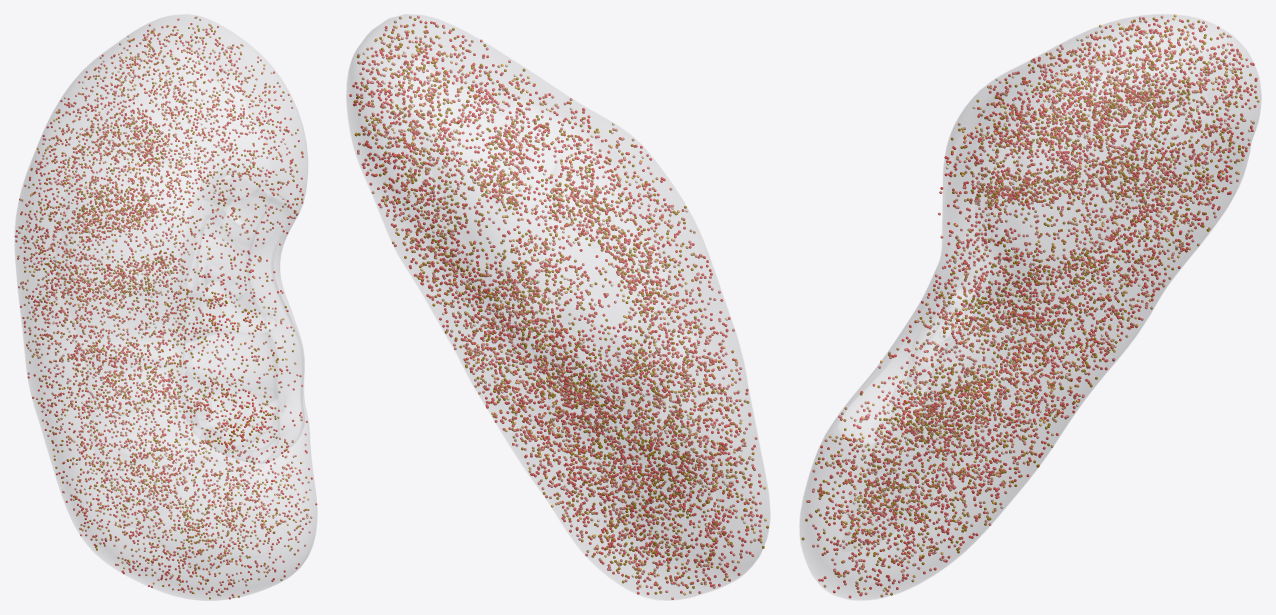
Rendered from 3d-vh-m-kidney-r-UBERON_0004539-all-as-pan-human-azimuth-sphere-hra-pop.glb.
3 views of the same model, side by side, from view 1: azimuth 30°, elevation 25°; view 2: azimuth 150°, elevation 25°; view 3: azimuth 270°, elevation 25° (orthographic). The views are drawn at different scales.
Parts seen in each view (by area): view 1: VH_M_kidney_capsule_R, VH_M_outer_cortex_of_kidney_R, VH_M_hilum_of_kidney_R, VH_M_renal_column_R, VH_M_renal_pyramid_f, VH_M_renal_pyramid_h, VH_M_renal_papilla_R_g; view 2: VH_M_kidney_capsule_R, VH_M_outer_cortex_of_kidney_R; view 3: VH_M_kidney_capsule_R, VH_M_outer_cortex_of_kidney_R, VH_M_hilum_of_kidney_R, VH_M_renal_pyramid_f.
Part boxes in pixels (x1=…): VH_M_kidney_capsule_R: x1=14, y1=14, x2=316, y2=600; VH_M_outer_cortex_of_kidney_R: x1=17, y1=16, x2=311, y2=599; VH_M_hilum_of_kidney_R: x1=181, y1=174, x2=301, y2=462; VH_M_renal_column_R: x1=187, y1=179, x2=276, y2=462; VH_M_renal_pyramid_f: x1=186, y1=269, x2=275, y2=341; VH_M_renal_pyramid_h: x1=182, y1=384, x2=280, y2=453; VH_M_renal_papilla_R_g: x1=186, y1=383, x2=211, y2=414; VH_M_kidney_capsule_R: x1=346, y1=14, x2=770, y2=600; VH_M_outer_cortex_of_kidney_R: x1=347, y1=16, x2=769, y2=598; VH_M_kidney_capsule_R: x1=799, y1=14, x2=1261, y2=600; VH_M_outer_cortex_of_kidney_R: x1=800, y1=16, x2=1260, y2=599; VH_M_hilum_of_kidney_R: x1=838, y1=129, x2=990, y2=444; VH_M_renal_pyramid_f: x1=939, y1=286, x2=986, y2=340.
Bounding box in the file's own units: 0.0655 × 0.1126 × 0.0764.
